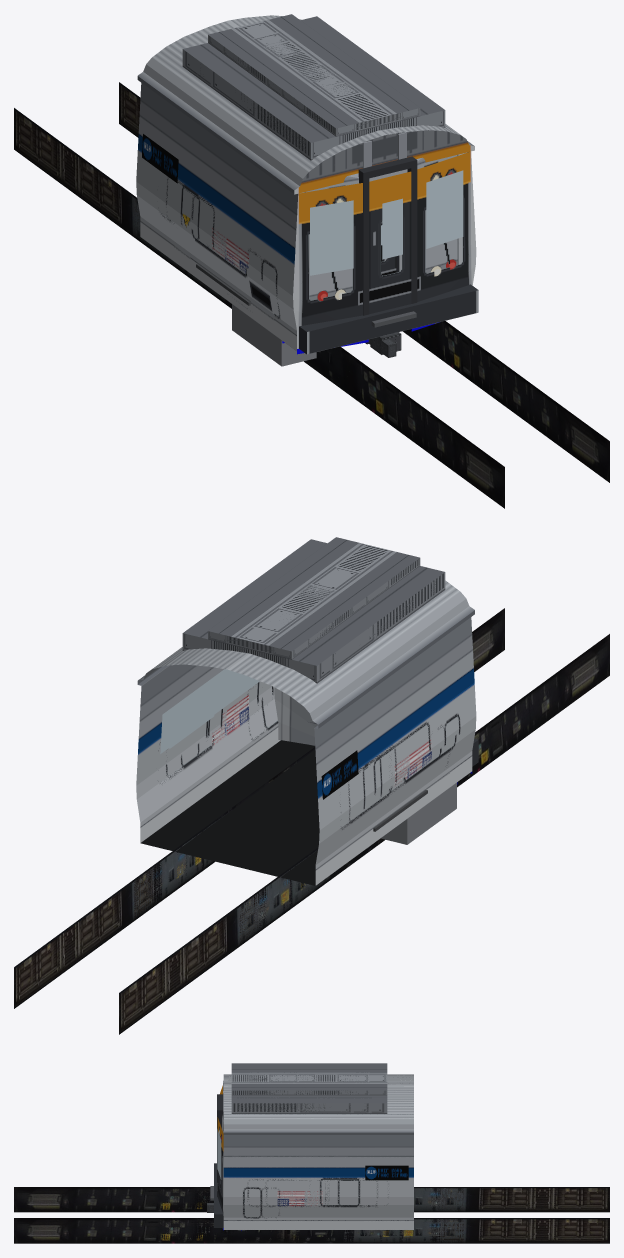
3 views of the same model, one above another, from view 1: azimuth 30°, elevation 25°; view 2: azimuth 150°, elevation 25°; view 3: azimuth 270°, elevation 25° (orthographic). The views are drawn at different scales.
Visible parts, largest first — view 1: end_cab_exterior, underframe, end_gangway_exterior, end_cab_exterior_mini, end_gangway_exterior_mini, underframe_mini, roof_door, window_exterior, roof, door_exterior; view 2: end_cab_exterior, end_gangway_exterior, end_cab_exterior_mini, underframe, end_gangway_exterior_mini, window_exterior, underframe_mini, roof_door, roof, door_exterior; view 3: end_cab_exterior, underframe, end_cab_exterior_mini, end_gangway_exterior, underframe_mini, end_gangway_exterior_mini.
Part boxes in pixels (x1=…): end_cab_exterior: x1=136, y1=15, x2=478, y2=357; underframe: x1=14, y1=82, x2=609, y2=508; end_gangway_exterior: x1=137, y1=15, x2=466, y2=366; end_cab_exterior_mini: x1=151, y1=26, x2=429, y2=344; end_gangway_exterior_mini: x1=151, y1=14, x2=396, y2=355; underframe_mini: x1=135, y1=197, x2=489, y2=394; roof_door: x1=179, y1=77, x2=294, y2=177; window_exterior: x1=186, y1=151, x2=259, y2=296; roof: x1=187, y1=91, x2=278, y2=165; door_exterior: x1=170, y1=207, x2=274, y2=331; end_cab_exterior: x1=136, y1=537, x2=478, y2=885; end_gangway_exterior: x1=136, y1=544, x2=471, y2=884; end_cab_exterior_mini: x1=151, y1=548, x2=460, y2=874; underframe: x1=14, y1=608, x2=609, y2=1034; end_gangway_exterior_mini: x1=151, y1=554, x2=454, y2=873; window_exterior: x1=364, y1=645, x2=437, y2=798; underframe_mini: x1=134, y1=731, x2=480, y2=945; roof_door: x1=329, y1=610, x2=449, y2=703; roof: x1=345, y1=613, x2=436, y2=691; door_exterior: x1=262, y1=738, x2=453, y2=853; end_cab_exterior: x1=207, y1=1063, x2=413, y2=1230; underframe: x1=14, y1=1187, x2=609, y2=1243; end_cab_exterior_mini: x1=241, y1=1063, x2=395, y2=1230; end_gangway_exterior: x1=210, y1=1063, x2=413, y2=1229; underframe_mini: x1=160, y1=1187, x2=463, y2=1243; end_gangway_exterior_mini: x1=246, y1=1063, x2=395, y2=1228.
Bounding box in the file's own units: 2.91 × 3.74 × 13.5.
